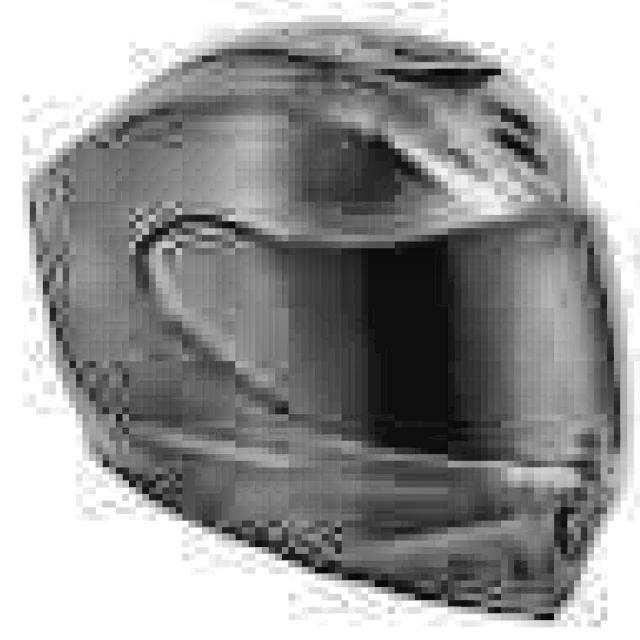Helmet: (18, 12, 637, 632)
